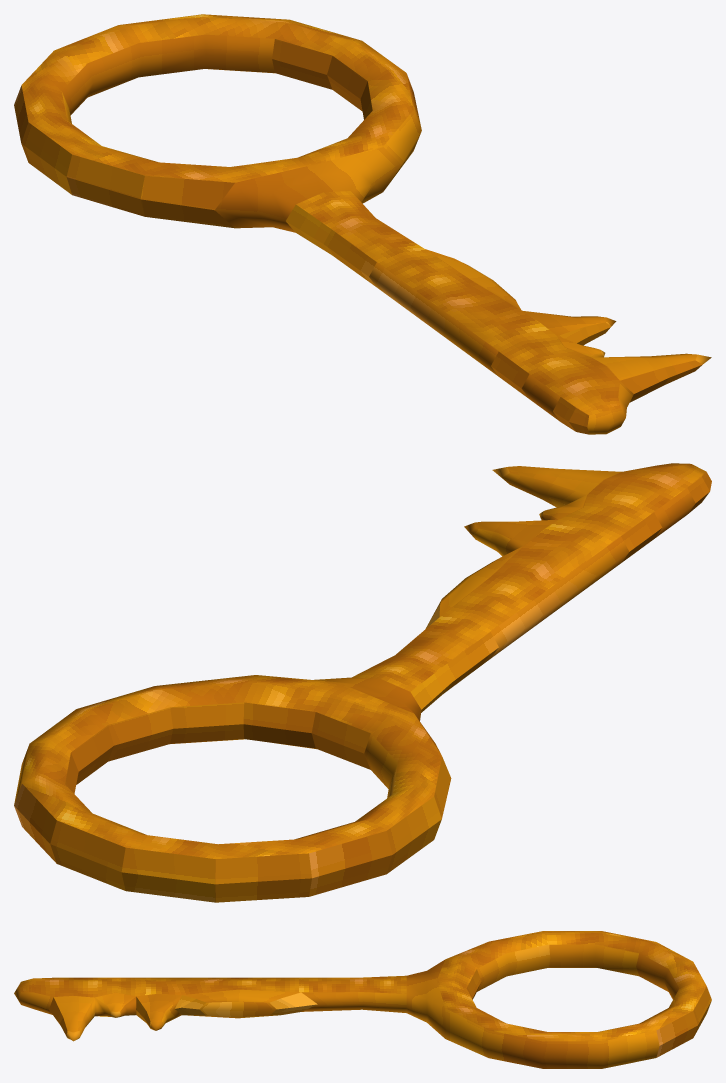
File: BedroomKey.glb
3 views of the same model, one above another, from view 1: azimuth 30°, elevation 25°; view 2: azimuth 150°, elevation 25°; view 3: azimuth 270°, elevation 25° (orthographic). The views are drawn at different scales.
Visible parts, largest first — view 1: Bedroom Key; view 2: Bedroom Key; view 3: Bedroom Key.
Boxes of the visible parts, <box> form: Bedroom Key: <box>14,14,711,434</box>; Bedroom Key: <box>14,463,711,902</box>; Bedroom Key: <box>14,931,711,1068</box>.
Bounding box in the file's own units: 1.68 × 0.2573 × 4.33.
Materials: 1 (1 with a texture image).
